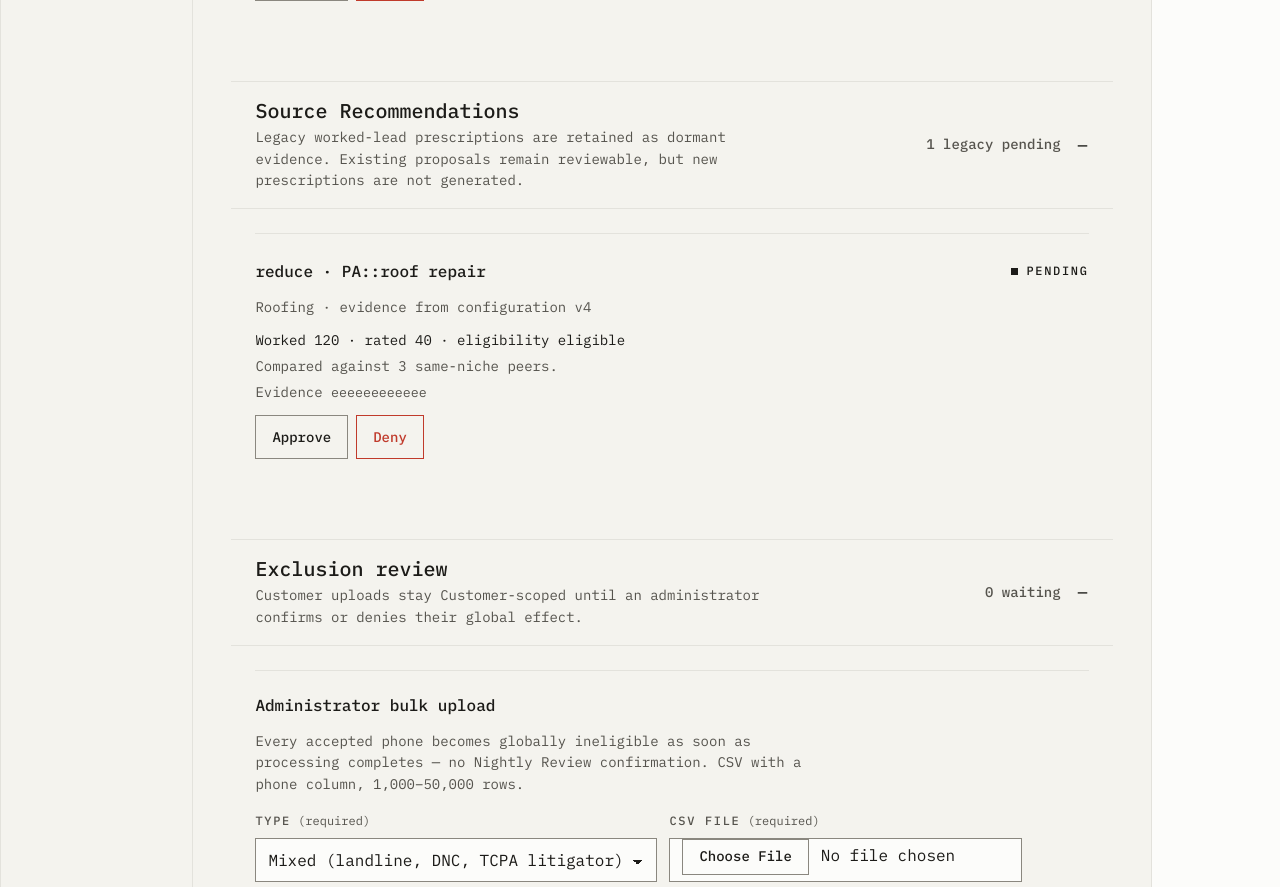
Source Recommendations stay human-controlled › surfaces a refused decision without pretending it applied
(page scrolled)
Click the button "Approve".
click(302, 437)  # box [255,415,348,459]
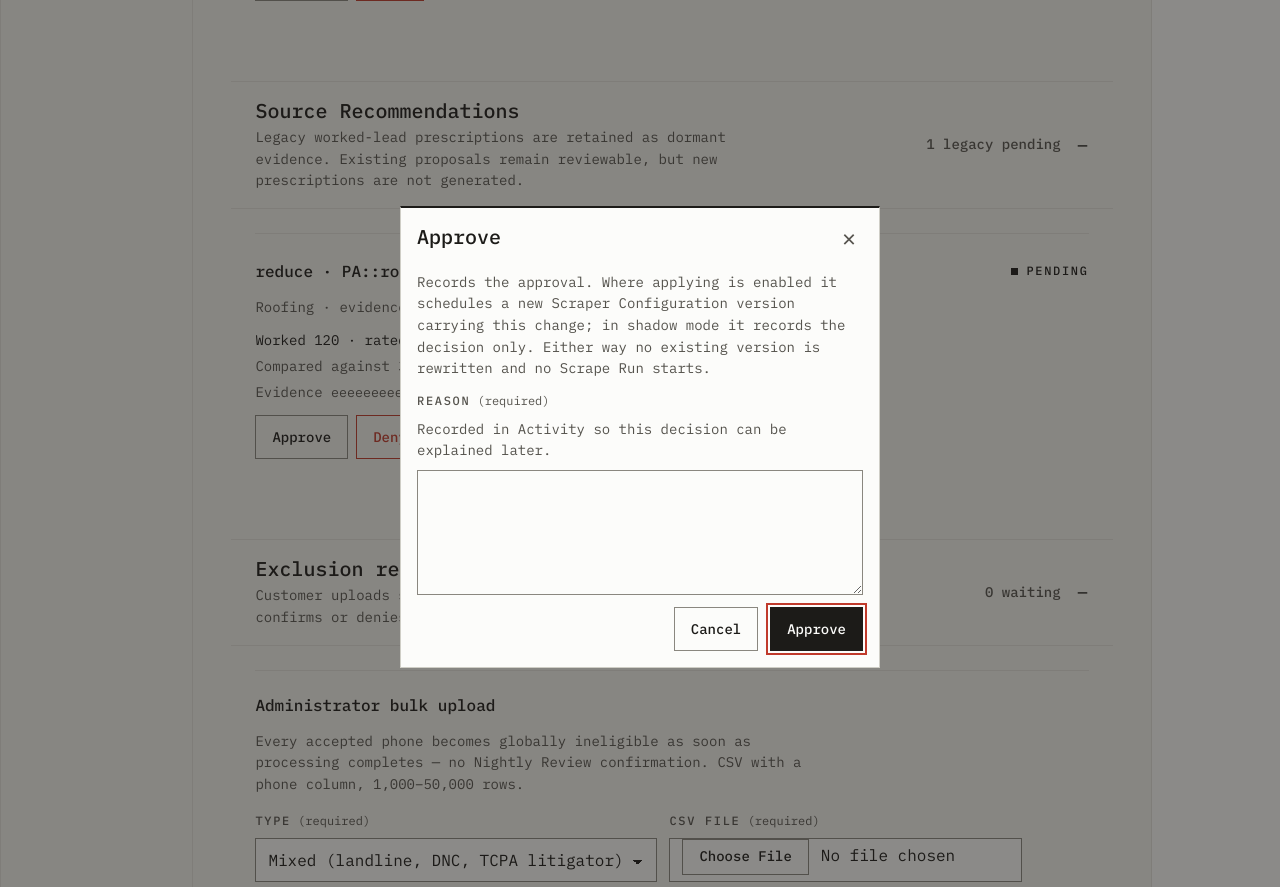
Type "Acting on older numbers." into the text box labelled "Reason (required)".
click(640, 533); type("Acting on older numbers.")  # box [417,470,863,595]
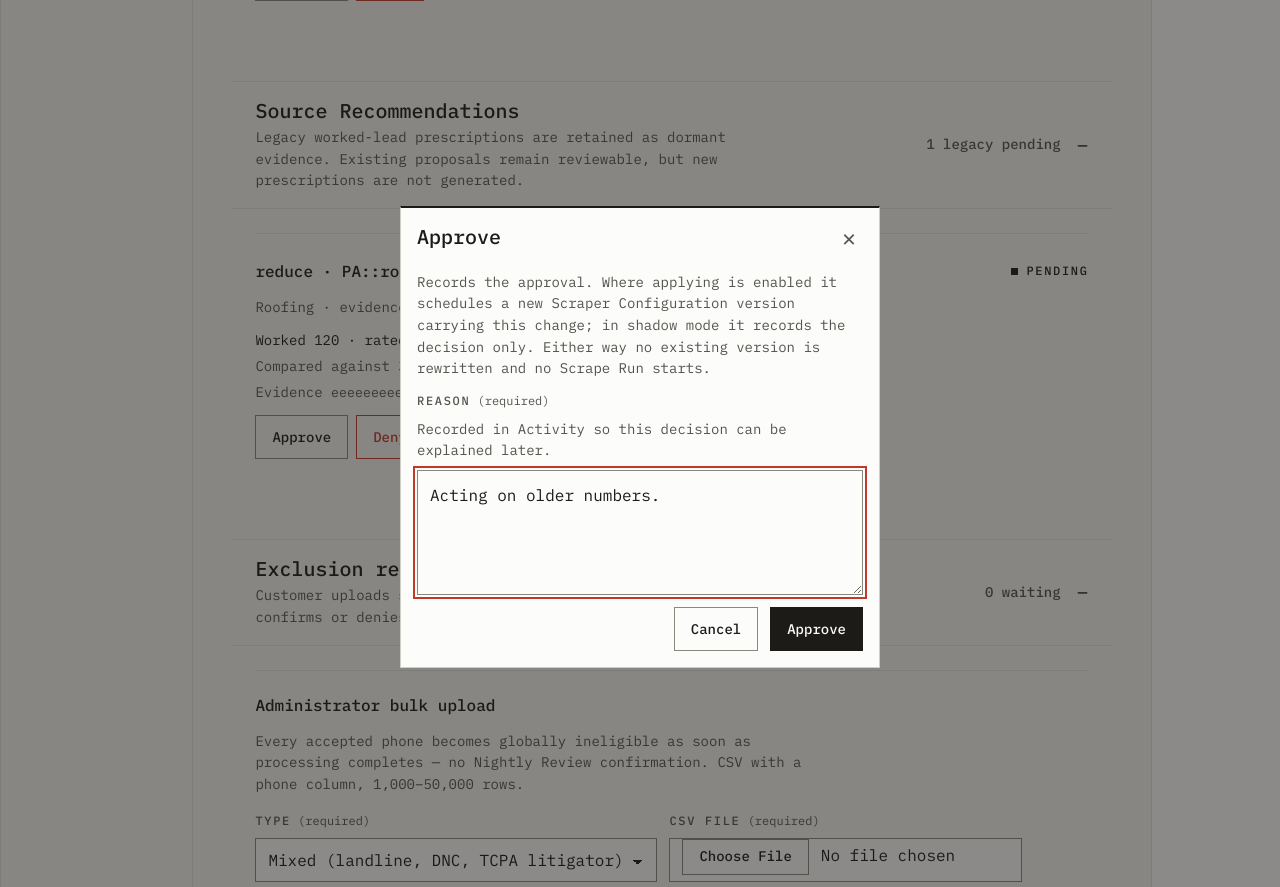
Click the 2nd button "Approve".
click(817, 629)  # box [770,607,863,651]
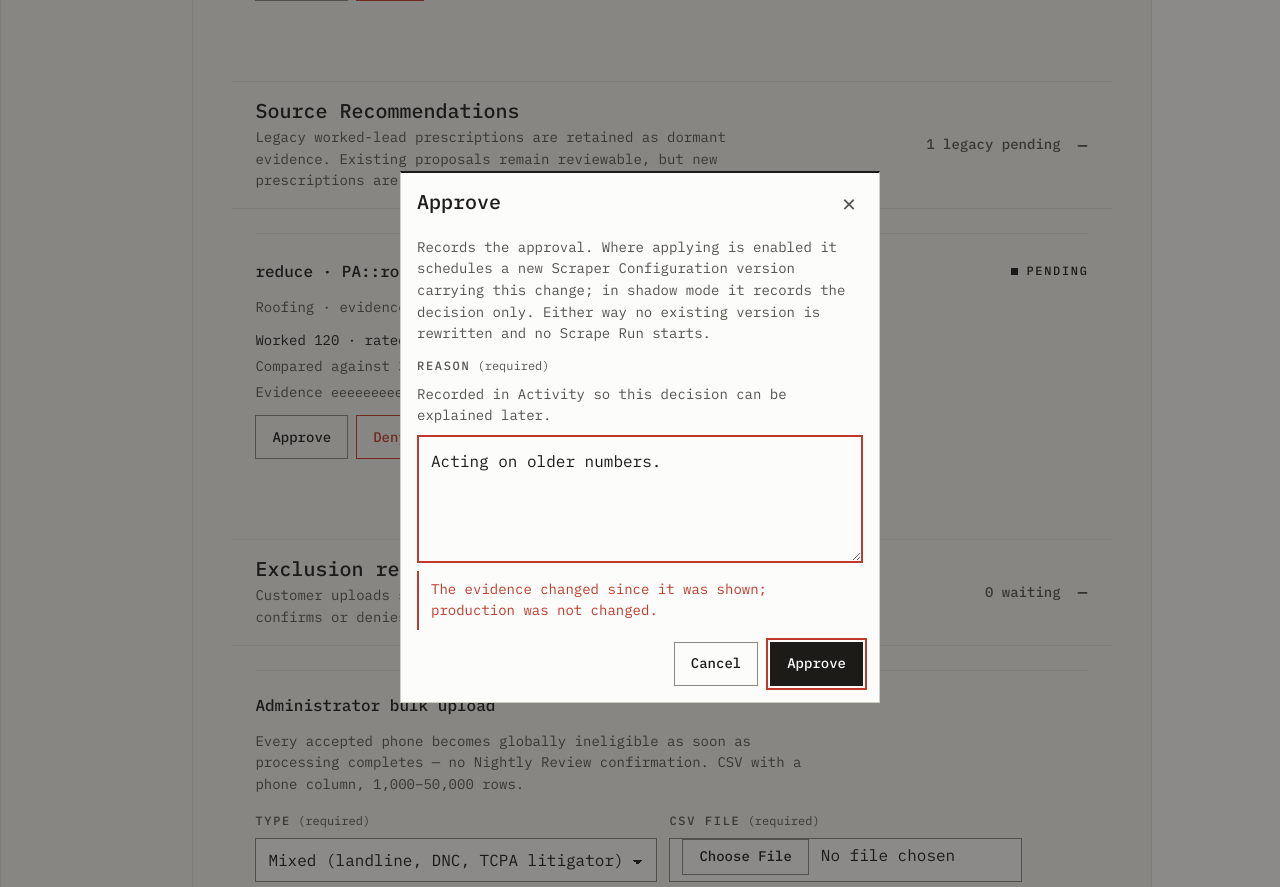
Now the text "The evidence changed since it was shown; production was not changed." is shown, box [417,571,863,630]
